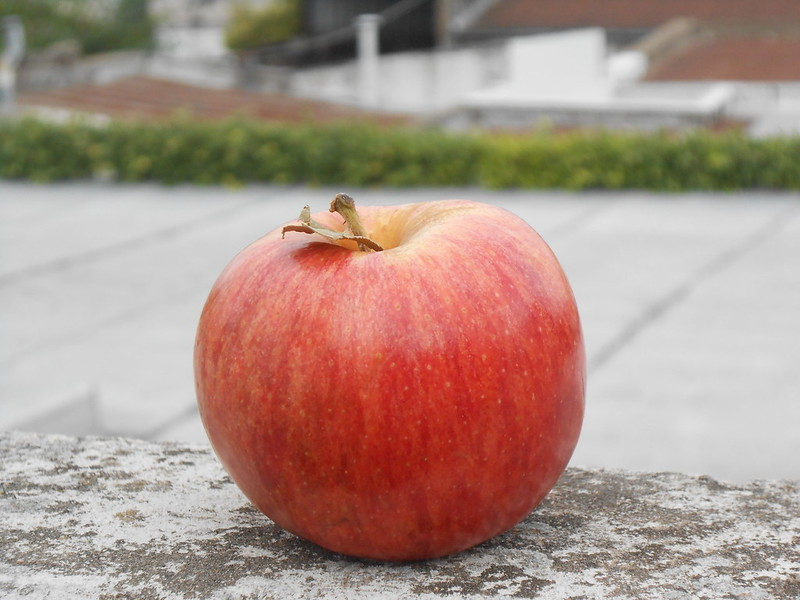apple: (184, 192, 586, 561)
